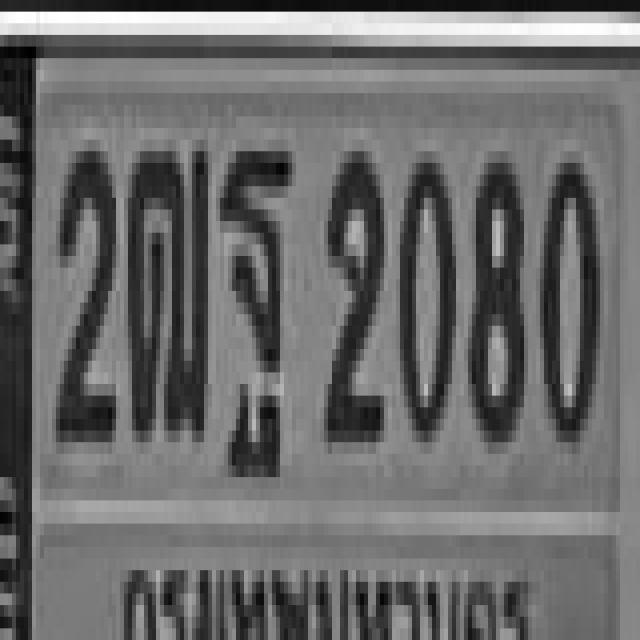0: (536, 151, 596, 431), (396, 140, 452, 430)
2: (320, 140, 380, 430), (52, 140, 112, 430)
25ThorThan: (216, 140, 288, 430)
27ThorPhuThao: (124, 128, 204, 431)
8: (464, 151, 520, 431)
